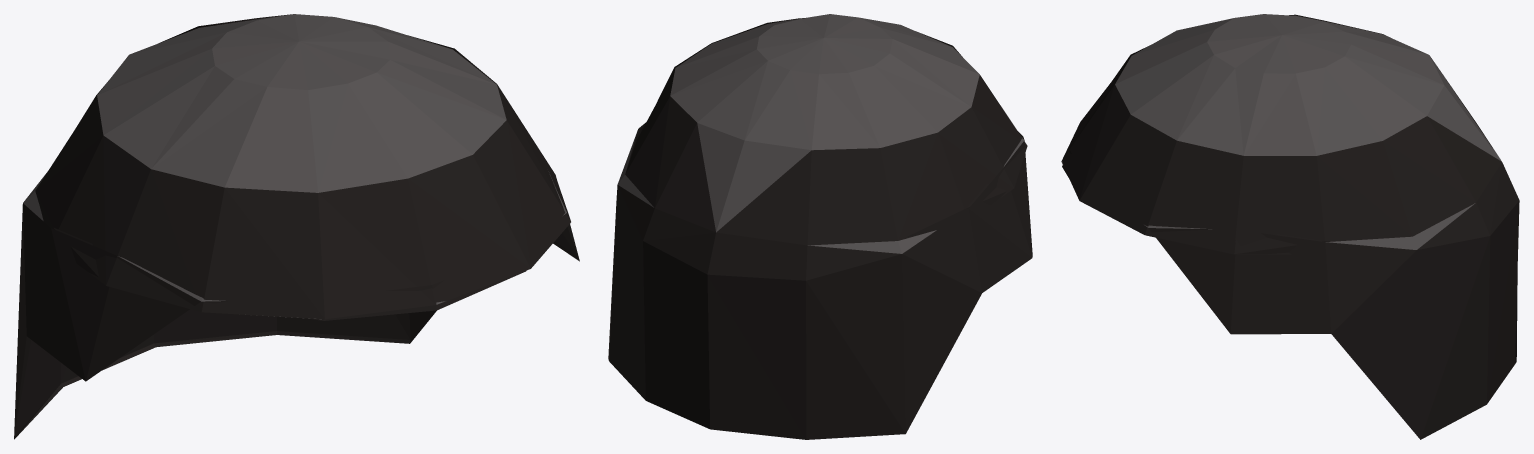
Rendered from hair_buzz_01.glb.
3 views of the same model, side by side, from view 1: azimuth 30°, elevation 25°; view 2: azimuth 150°, elevation 25°; view 3: azimuth 270°, elevation 25° (orthographic). The views are drawn at different scales.
Parts seen in each view (by area): view 1: hair_buzz_01; view 2: hair_buzz_01; view 3: hair_buzz_01.
Part boxes in pixels (x1,y1,x2,y2): hair_buzz_01: (14, 14, 579, 439); hair_buzz_01: (608, 14, 1032, 439); hair_buzz_01: (1061, 14, 1519, 439).
Size of the model in its own units: 0.2648 by 0.2125 by 0.2689.
1 material, 1 textured.
